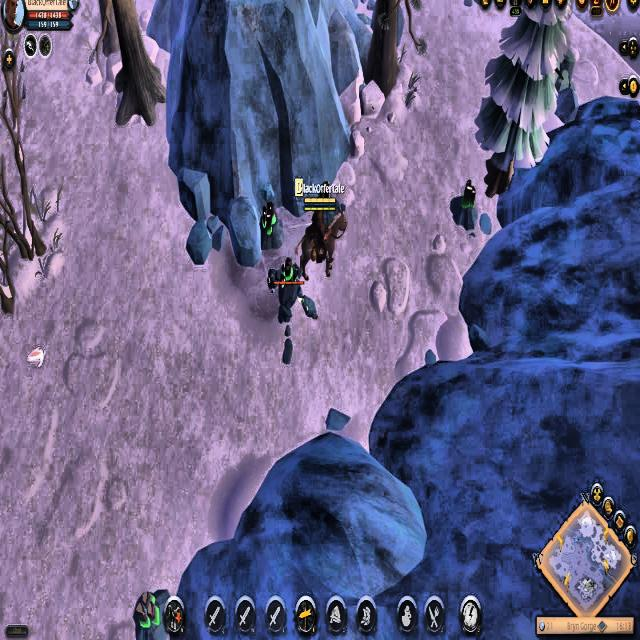sandstone: (552, 44, 577, 97)
tinore: (129, 588, 180, 640), (255, 198, 285, 253), (450, 178, 479, 234)
